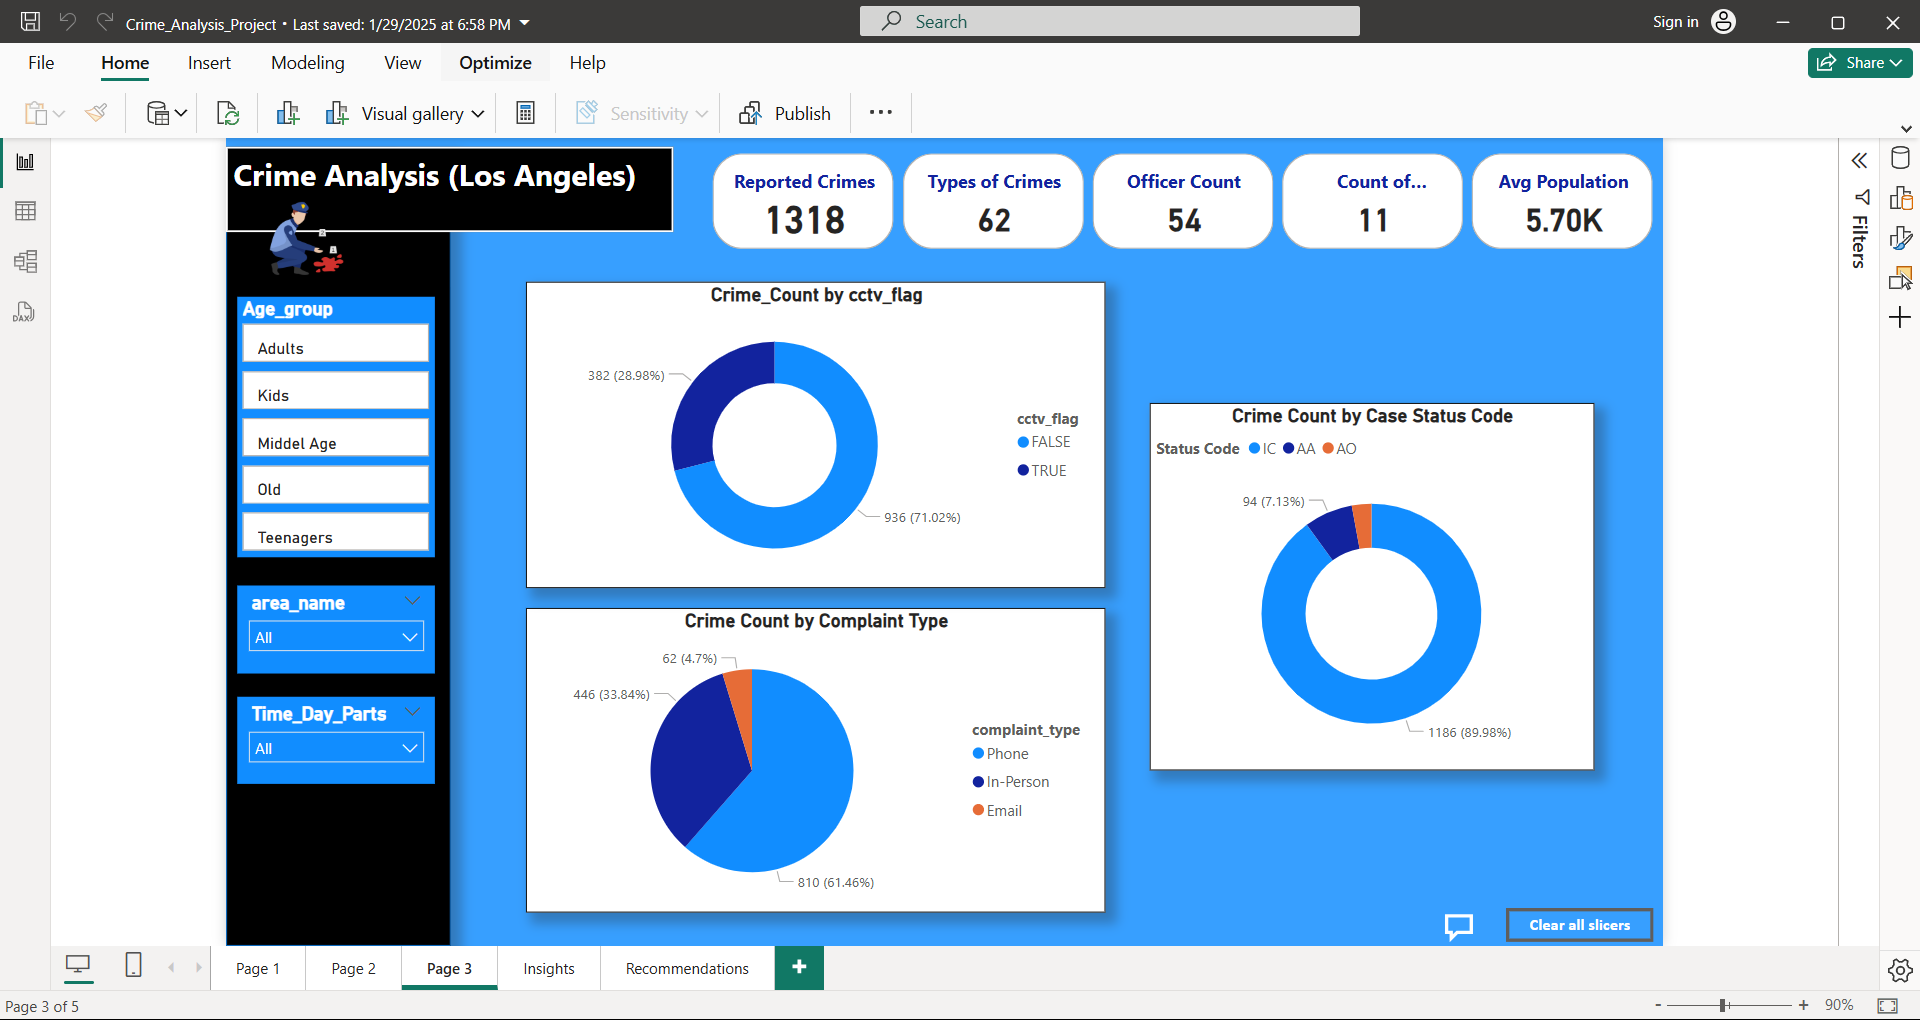

This screenshot's page, from the dashboard's own definition file:
{"tool":"powerbi","page":{"name":"Page 3","canvas":[1280,720],"ordinal":2},"visuals":[{"type":"actionButton","box":[1140.1,685.3,131.5,30.2],"z":0},{"type":"actionButton","box":[1073.7,685.3,48.3,35],"z":1000},{"type":"shape","box":[0,8.2,200.3,711.8],"z":2000,"group":"g1"},{"type":"pieChart","title":"Crime Count by Complaint Type","fields":{"Category":["crime report_t.complaint_type"],"Y":["CountNonNull(crime report_t.report_no)"]},"box":[266.6,418.6,516.4,271.4],"z":2000},{"type":"textbox","box":[0,8.2,398.1,76],"z":3000,"group":"g1"},{"type":"donutChart","fields":{"Category":["crime report_t.cctv_flag"],"Y":["crime report_t.Crime_Count"]},"box":[266.6,127.9,516.4,272.7],"z":3000},{"type":"advancedSlicerVisual","fields":{"Values":["crime victim_t.Age_group"]},"box":[9.7,142.1,176.1,231.6],"z":4000,"group":"g1"},{"type":"donutChart","title":"Crime Count by Case Status Code","fields":{"Category":["crime report_t.case_status_code"],"Y":["crime report_t.Crime_Count"]},"box":[822.8,236.5,395.7,326.9],"z":4000},{"type":"cardVisual","fields":{"Data":["crime report_t.Crime_Count","Count(crime report_t.crime_type)","CountNonNull(crime officer_t.officer_code)","Count(crime location_t.area_name)","Avg(crime location_t.population_density)"]},"box":[428.3,8.4,851.7,95.3],"z":5000},{"type":"slicer","fields":{"Values":["crime location_t.area_name"]},"box":[9.7,399.1,176.1,78.4],"z":5000,"group":"g1"},{"type":"group","id":"g1","title":"Group 1","box":[0,8.2,398.1,711.8],"z":6000},{"type":"slicer","fields":{"Values":["crime report_t.Time_Day_Parts"]},"box":[9.7,498,176.1,77.2],"z":6000,"group":"g1"},{"type":"image","box":[29,38.4,85.7,103.8],"z":11000,"group":"g1"}]}

Visuals, with their boxes on the page's 1280x720 design canvas (x1, y1, x2, y2). These are canvas units, not pixel positions in the 1920x1020 screenshot, which may show the page scaled, cropped or inside an application window:
actionButton: box=[1140, 685, 1272, 716]
actionButton: box=[1074, 685, 1122, 720]
shape: box=[0, 8, 200, 720]
"Crime Count by Complaint Type" pieChart: box=[267, 419, 783, 690]
textbox: box=[0, 8, 398, 84]
donutChart - crime report_t.cctv_flag x crime report_t.Crime_Count: box=[267, 128, 783, 401]
advancedSlicerVisual - crime victim_t.Age_group: box=[10, 142, 186, 374]
"Crime Count by Case Status Code" donutChart: box=[823, 236, 1218, 563]
cardVisual - crime report_t.Crime_Count x Count(crime report_t.crime_type): box=[428, 8, 1280, 104]
slicer - crime location_t.area_name: box=[10, 399, 186, 478]
"Group 1" group: box=[0, 8, 398, 720]
slicer - crime report_t.Time_Day_Parts: box=[10, 498, 186, 575]
image: box=[29, 38, 115, 142]
